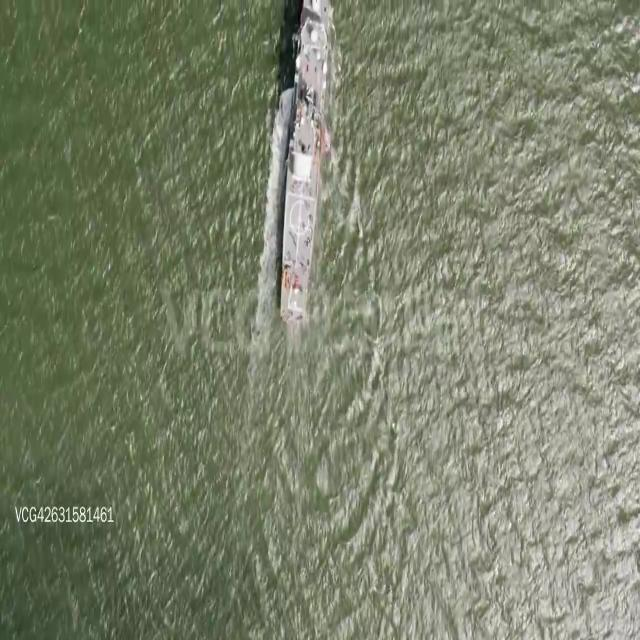navalvessels: (274, 0, 327, 323)
